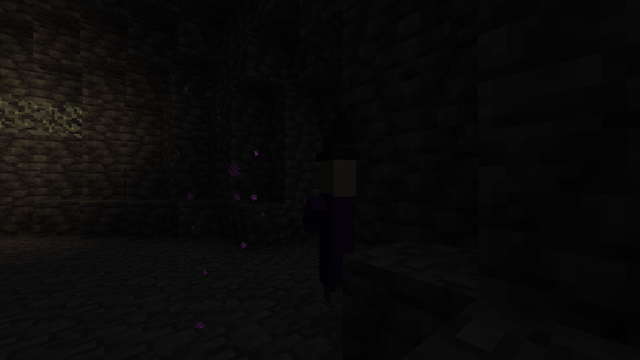sorcieres: (311, 152, 358, 308)
